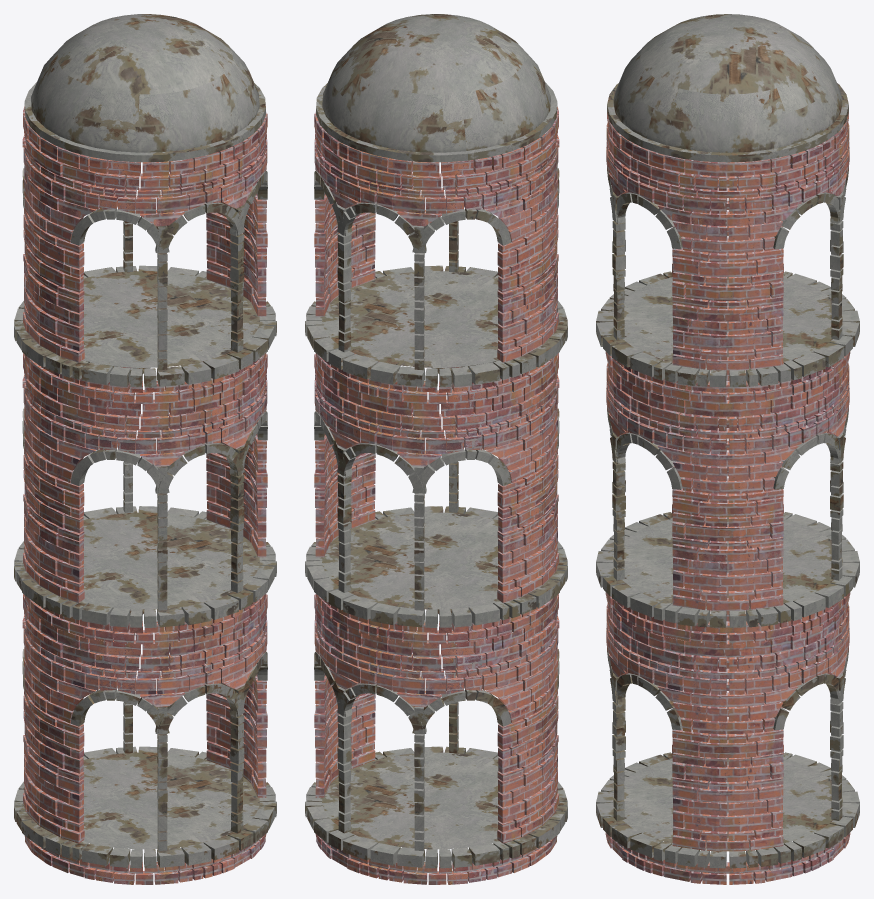
File: Tower.fbx
The picture shows the model from 3 angles, left to right: view 1: azimuth 30°, elevation 25°; view 2: azimuth 150°, elevation 25°; view 3: azimuth 270°, elevation 25°; orthographic projection.
Visible parts, largest first — view 1: Bricks, Top; view 2: Bricks, Top; view 3: Bricks, Top.
Boxes of the visible parts, left/top/right/bottom form: Bricks: left=14, top=106, right=276, bottom=884; Top: left=24, top=14, right=265, bottom=849; Bricks: left=305, top=106, right=567, bottom=884; Top: left=316, top=14, right=557, bottom=849; Bricks: left=596, top=112, right=859, bottom=884; Top: left=607, top=14, right=848, bottom=848.
Size of the model in its own units: 1525 by 5171 by 1540.
